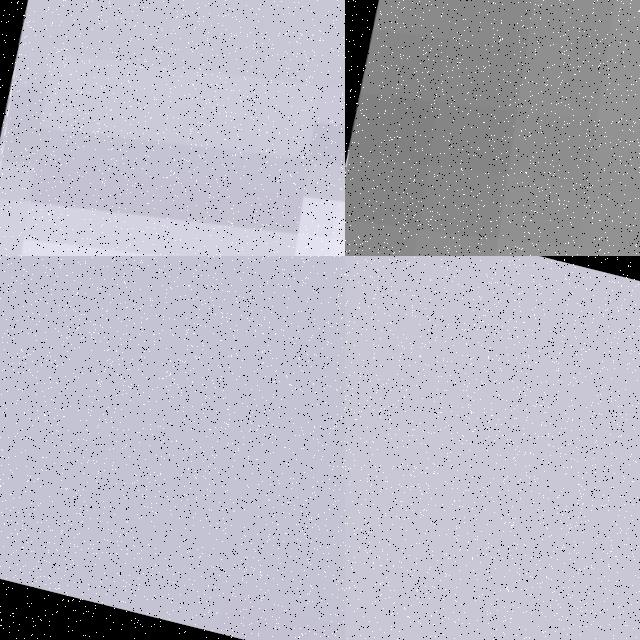0: (0, 0, 345, 256)
drone: (345, 0, 640, 256)
